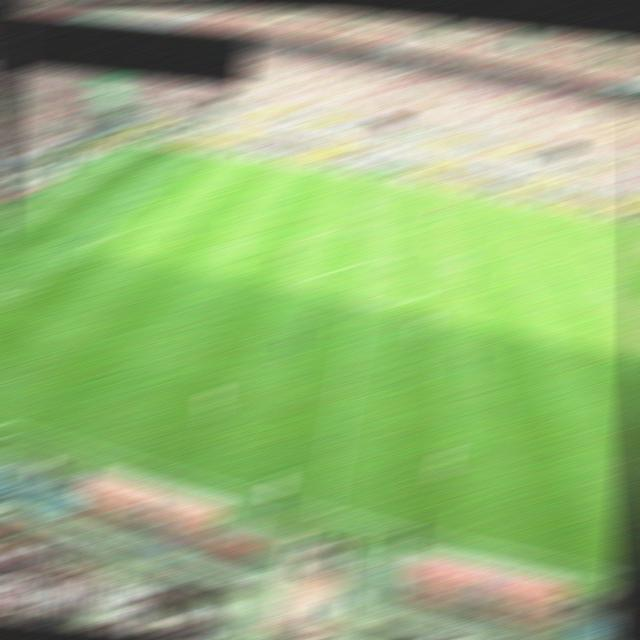bigarea_bottom_inner: (5, 292, 30, 303)
bigarea_top_inner: (571, 239, 601, 248), (161, 168, 187, 178)
bigarea_top_outter: (84, 155, 109, 165)
bottom_arc_area_intersection: (75, 236, 101, 246)
corner: (120, 137, 145, 147)
halfcircle_bottom: (347, 296, 372, 306)
halfcircle_top: (358, 225, 383, 235)
midline_bottom_intersection: (310, 504, 337, 520)
midline_top_intersection: (368, 172, 393, 182)
smallarea_bottom_inner: (0, 230, 20, 240)
smallarea_top_inner: (74, 181, 99, 191)
smallarea_top_outter: (48, 175, 73, 186)
top_arc_area_intersection: (597, 278, 629, 290), (126, 195, 152, 205)
